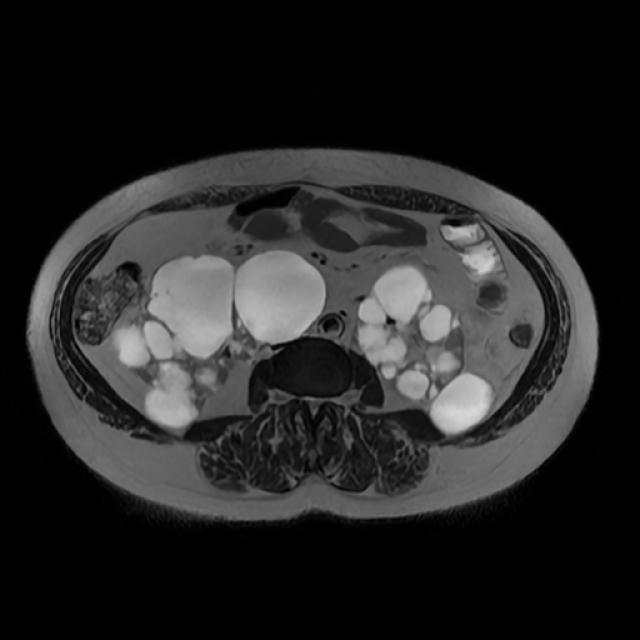sag: (108, 248, 328, 428)
sol: (350, 263, 496, 436)
